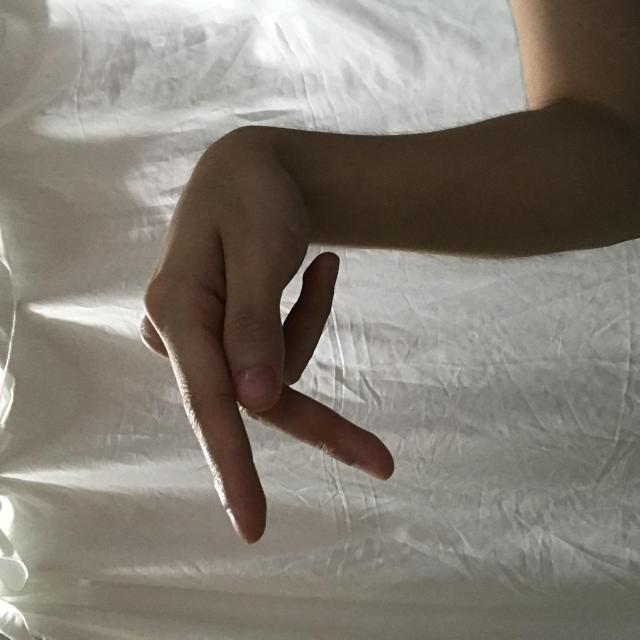P: (93, 142, 516, 392)
